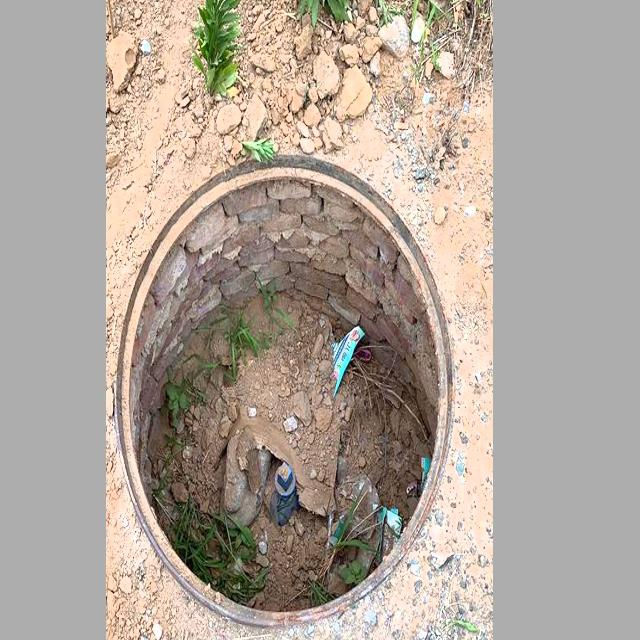lose: (118, 139, 467, 639)
